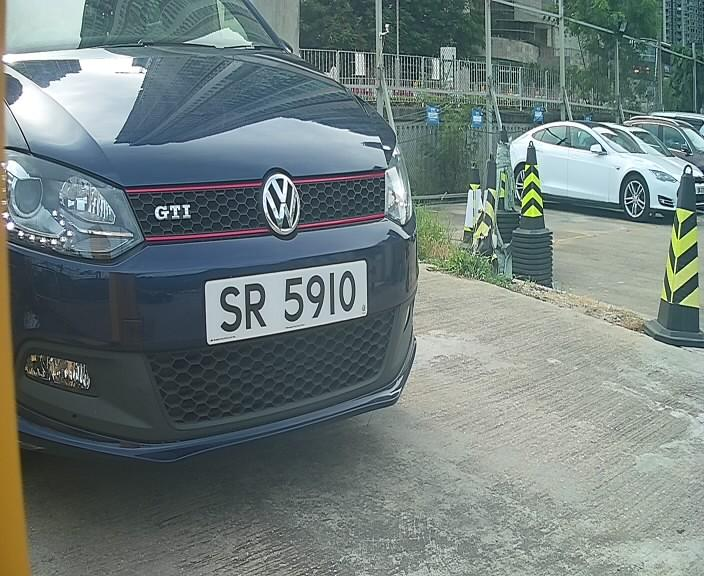License Plate: (195, 255, 368, 348)
